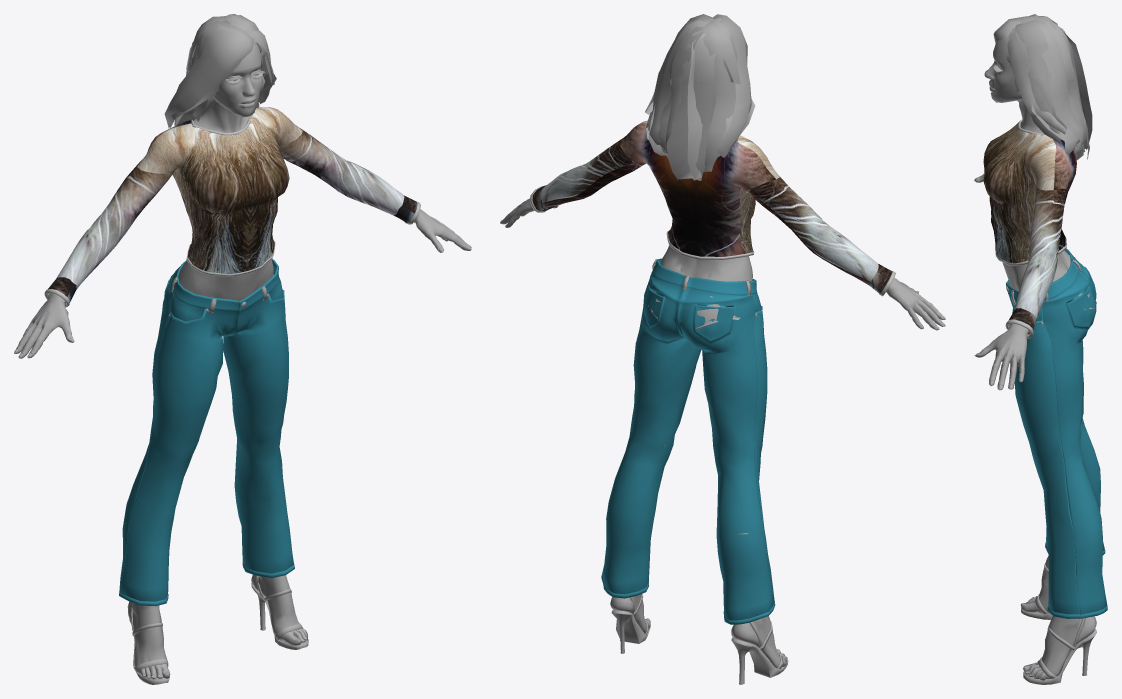
File: woman_textures.fbx
3 renders of one model, left to right at view 1: azimuth 30°, elevation 25°; view 2: azimuth 150°, elevation 25°; view 3: azimuth 270°, elevation 25°, orthographic. The views are drawn at different scales.
Visible parts, largest first — view 1: polySurface144, polySurface154, polySurface87, polySurface110; view 2: polySurface144, polySurface154, polySurface87, polySurface106, polySurface107, polySurface110, polySurface104, polySurface124, polySurface108, polySurface134, polySurface125; view 3: polySurface144, polySurface154, polySurface87, polySurface104, polySurface116, polySurface121, polySurface124, polySurface117, polySurface108, polySurface125, polySurface115, polySurface110 (+2 smaller).
Part boxes in pixels (bbox=[...]): polySurface144: bbox=[119, 259, 294, 606]; polySurface154: bbox=[48, 107, 417, 303]; polySurface87: bbox=[14, 21, 471, 679]; polySurface110: bbox=[164, 25, 254, 128]; polySurface144: bbox=[601, 258, 775, 624]; polySurface154: bbox=[532, 120, 892, 293]; polySurface87: bbox=[500, 198, 945, 668]; polySurface106: bbox=[666, 33, 715, 180]; polySurface107: bbox=[692, 23, 740, 172]; polySurface110: bbox=[713, 14, 751, 157]; polySurface104: bbox=[649, 17, 711, 144]; polySurface124: bbox=[665, 26, 703, 150]; polySurface108: bbox=[687, 33, 705, 180]; polySurface134: bbox=[731, 637, 788, 684]; polySurface125: bbox=[611, 610, 650, 653]; polySurface144: bbox=[1006, 248, 1107, 618]; polySurface154: bbox=[983, 122, 1076, 334]; polySurface87: bbox=[974, 39, 1096, 680]; polySurface104: bbox=[1021, 20, 1085, 145]; polySurface116: bbox=[1008, 21, 1067, 129]; polySurface121: bbox=[1006, 32, 1066, 134]; polySurface124: bbox=[1045, 21, 1087, 141]; polySurface117: bbox=[1003, 27, 1061, 141]; polySurface108: bbox=[1052, 21, 1092, 149]; polySurface125: bbox=[1023, 628, 1096, 684]; polySurface115: bbox=[1031, 103, 1077, 154]; polySurface110: bbox=[993, 16, 1027, 41].
Bounding box in the file's own units: 132 × 180 × 34.68.
